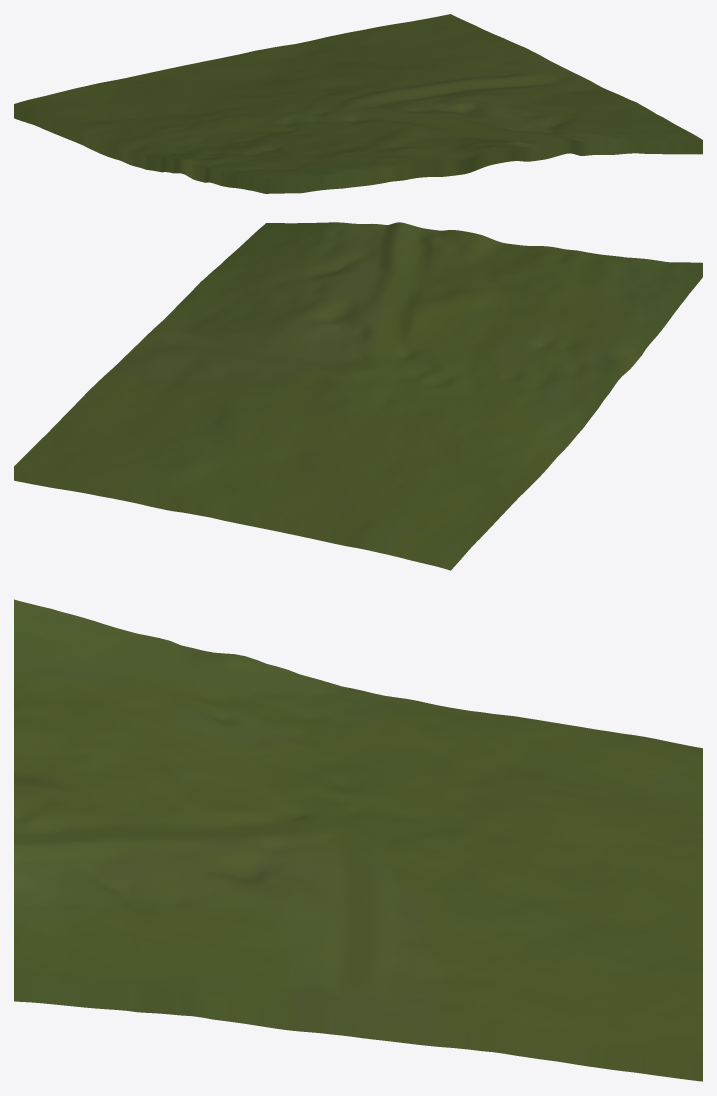
The model's file is terrain_4_-8.glb.
3 renders of one model, top to bottom at view 1: azimuth 30°, elevation 25°; view 2: azimuth 150°, elevation 25°; view 3: azimuth 270°, elevation 25°, orthographic. The views are drawn at different scales.
Parts seen in each view (by area): view 1: terrain_4_-8; view 2: terrain_4_-8; view 3: terrain_4_-8.
Boxes of the visible parts, x1=… form: terrain_4_-8: x1=14, y1=14, x2=702, y2=193; terrain_4_-8: x1=14, y1=222, x2=702, y2=570; terrain_4_-8: x1=14, y1=599, x2=702, y2=1081.
Bounding box in the file's own units: 256 × 78.28 × 256.
